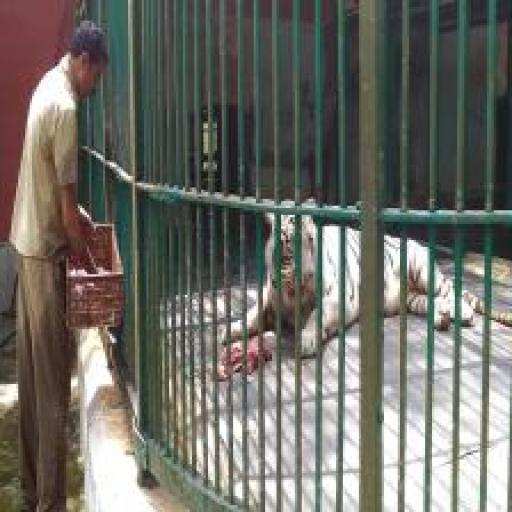Tiger: (217, 192, 512, 345)
